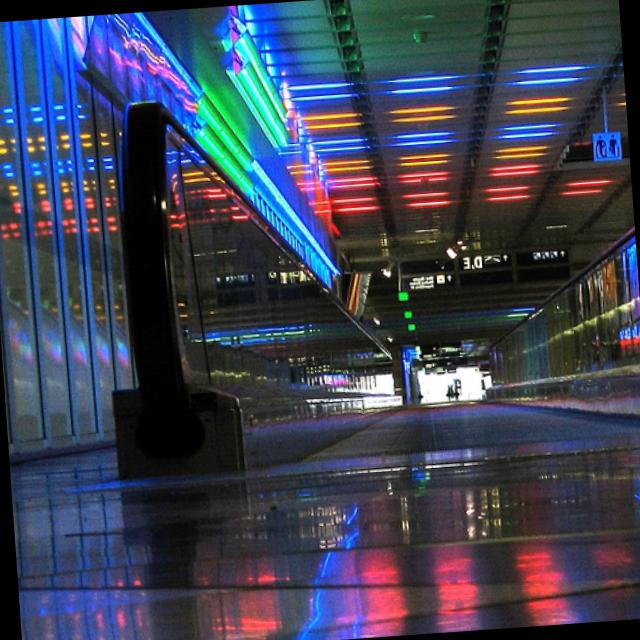ceiling beam: (138, 0, 634, 359)
conveyor belt: (112, 99, 640, 476)
floor -X: (11, 427, 640, 640)
lamp crop: (228, 61, 291, 146), (509, 102, 569, 112), (286, 79, 349, 88), (303, 109, 358, 117), (497, 149, 547, 157), (408, 197, 450, 206), (488, 191, 529, 199)
sign: (403, 241, 571, 276), (592, 130, 624, 160)
wall clock: (0, 12, 424, 458), (423, 356, 494, 400)
